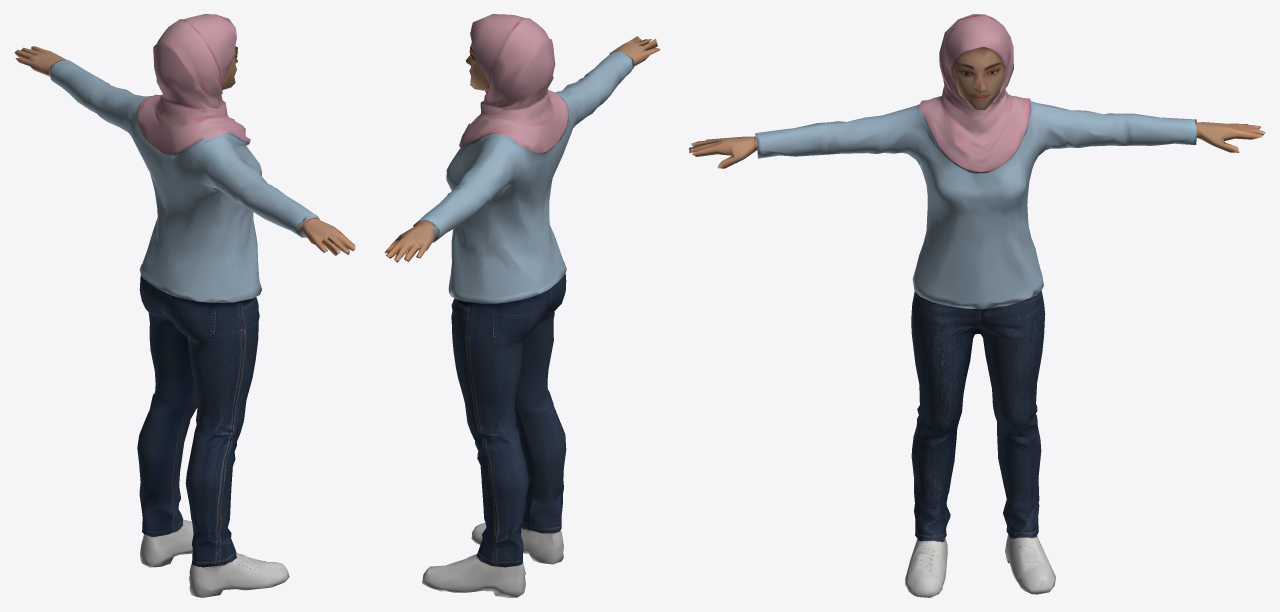
Rendered from fan_tudung.glb.
3 renders of one model, left to right at view 1: azimuth 30°, elevation 25°; view 2: azimuth 150°, elevation 25°; view 3: azimuth 270°, elevation 25°, orthographic.
Parts seen in each view (by area): view 1: tripo_node_bd771e8f-f652-447e-b352-540074d66cc3; view 2: tripo_node_bd771e8f-f652-447e-b352-540074d66cc3; view 3: tripo_node_bd771e8f-f652-447e-b352-540074d66cc3.
Boxes of the visible parts, x1=… form: tripo_node_bd771e8f-f652-447e-b352-540074d66cc3: x1=14, y1=14, x2=355, y2=597; tripo_node_bd771e8f-f652-447e-b352-540074d66cc3: x1=384, y1=14, x2=660, y2=597; tripo_node_bd771e8f-f652-447e-b352-540074d66cc3: x1=689, y1=14, x2=1265, y2=597.
Bounding box in the file's own units: 0.2064 × 0.9996 × 0.9504.
1 material, 1 textured.
